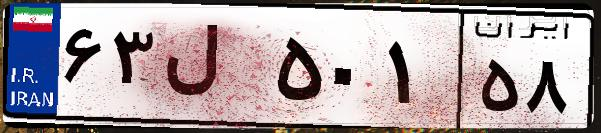0: (330, 28, 385, 110)
1: (385, 28, 445, 110)
3: (110, 28, 158, 98)
5: (270, 28, 330, 110), (475, 38, 525, 113)
6: (57, 26, 110, 100)
8: (525, 38, 570, 115)
ل: (158, 20, 270, 120)
